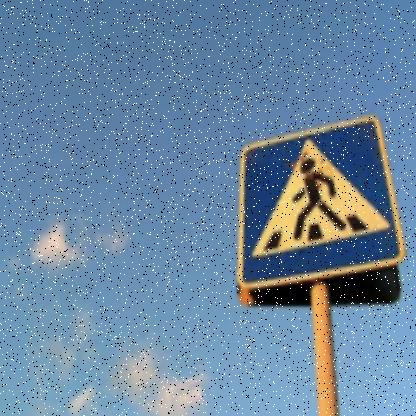Pedestrian Crossing: (249, 124, 395, 271)
